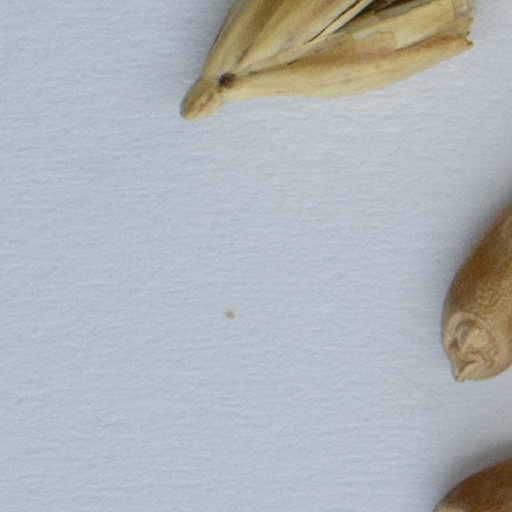Peel-poly: (182, 0, 479, 122)
